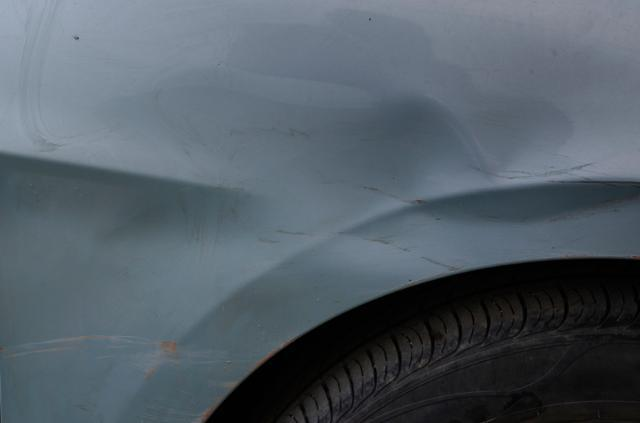Fender: (69, 18, 640, 313)
